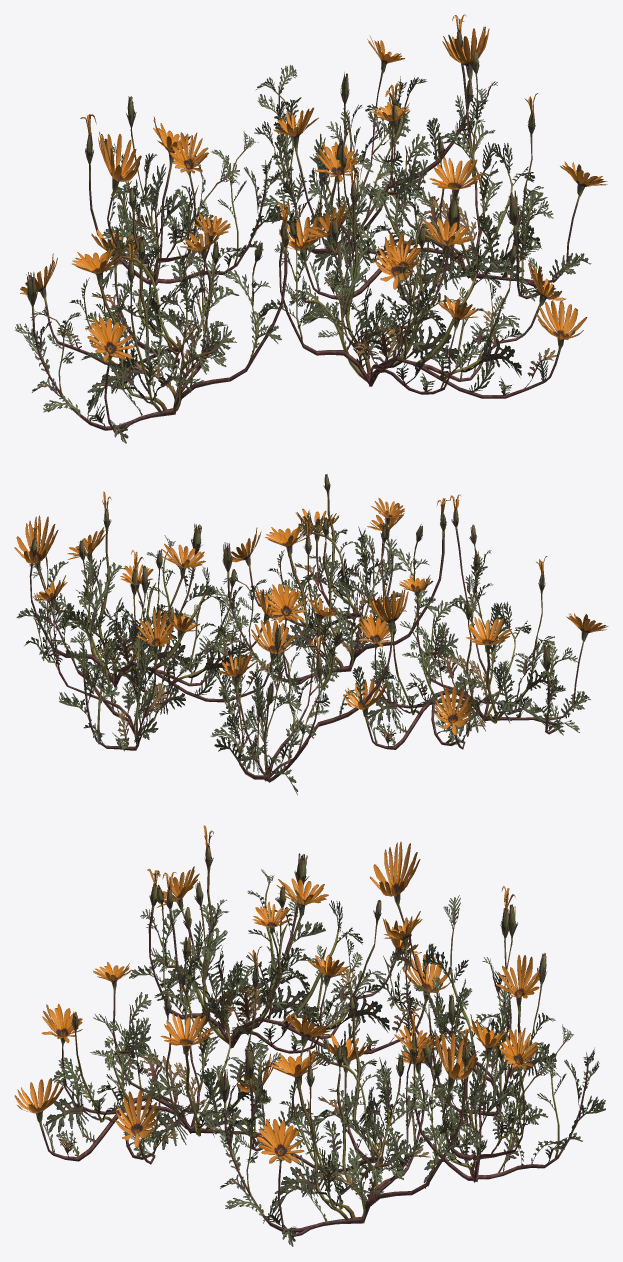
The model's file is flower_ursinia_clump.fbx.
3 views of the same model, one above another, from view 1: azimuth 30°, elevation 25°; view 2: azimuth 150°, elevation 25°; view 3: azimuth 270°, elevation 25° (orthographic). The views are drawn at different scales.
Visible parts, largest first — view 1: flower_ursinia_clump; view 2: flower_ursinia_clump; view 3: flower_ursinia_clump.
Boxes of the visible parts, x1,y1,x2,y2 form: flower_ursinia_clump: (15,14,607,443); flower_ursinia_clump: (14,474,608,795); flower_ursinia_clump: (14,825,605,1246).
Bounding box in the file's own units: 0.85 × 0.2996 × 0.7565.
1 material, 1 textured.
